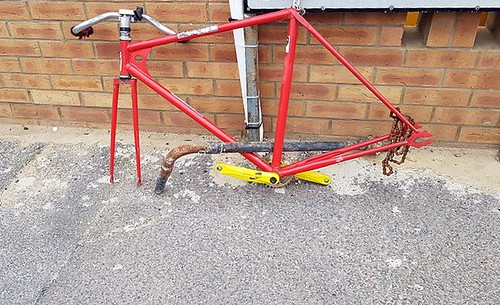bicicle: (68, 2, 428, 210)
